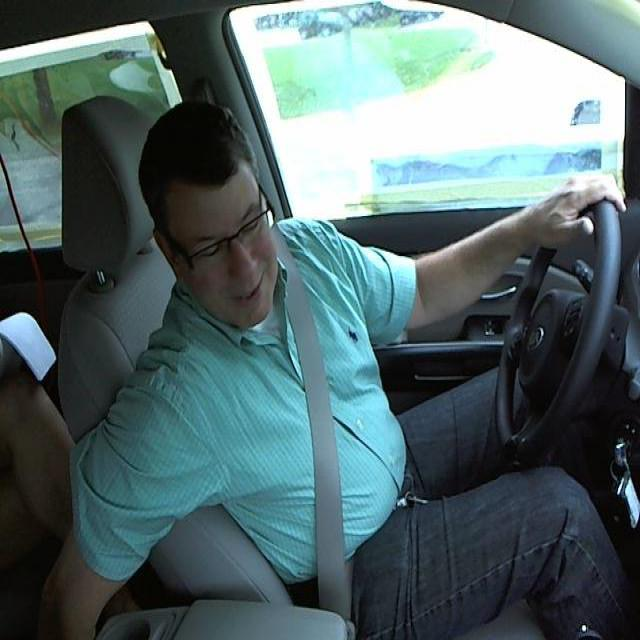seatbelt: (269, 269, 375, 603)
